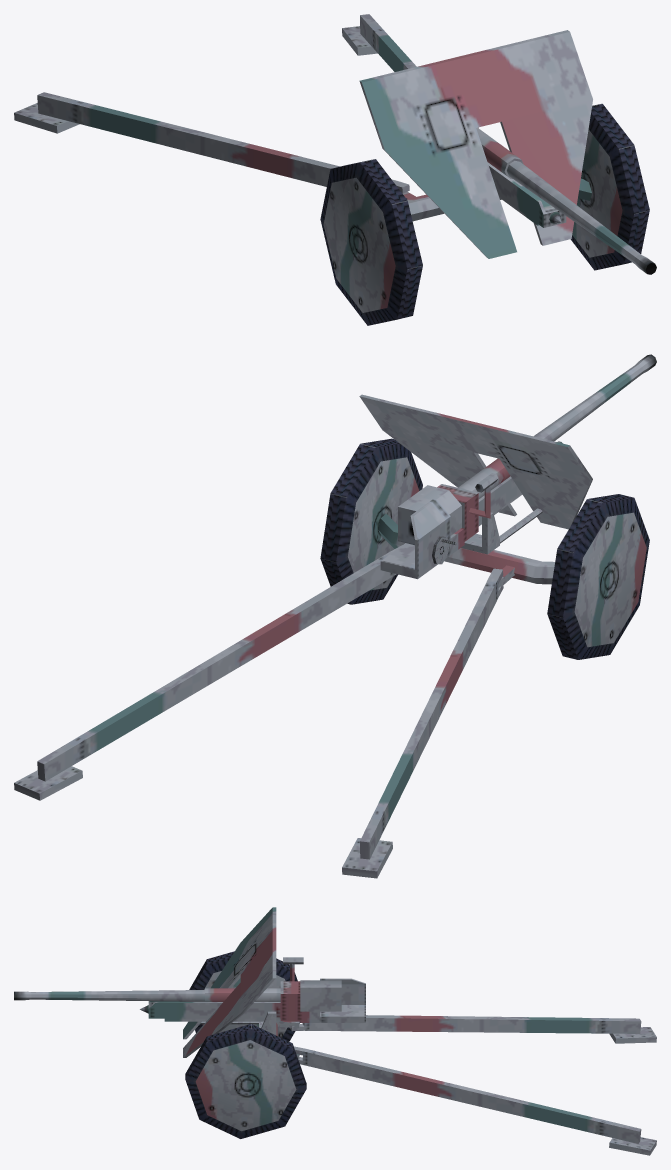
The model's file is JPNType1_47mm.dae.
The picture shows the model from 3 angles, top to bottom: view 1: azimuth 30°, elevation 25°; view 2: azimuth 150°, elevation 25°; view 3: azimuth 270°, elevation 25°; orthographic projection. The views are drawn at different scales.
Parts seen in each view (by area): view 1: turret, wheels, trail1, barrel, trail2, sleeve, carriage; view 2: wheels, turret, trail2, trail1, sleeve, barrel, carriage; view 3: wheels, trail2, trail1, turret, sleeve, barrel.
Part boxes in pixels (x1,y1,x2,y2): turret: [359, 30, 592, 258]; wheels: [320, 103, 649, 325]; trail1: [14, 92, 409, 193]; barrel: [476, 127, 656, 274]; trail2: [342, 14, 416, 71]; sleeve: [478, 127, 566, 227]; carriage: [403, 178, 591, 221]; wheels: [320, 438, 649, 659]; turret: [359, 394, 592, 554]; trail2: [14, 545, 402, 800]; trail1: [342, 568, 503, 878]; sleeve: [380, 441, 562, 579]; barrel: [398, 354, 656, 545]; carriage: [378, 513, 555, 587]; wheels: [185, 951, 306, 1138]; trail2: [294, 1046, 656, 1155]; trail1: [290, 1015, 656, 1043]; turret: [183, 907, 276, 1057]; sleeve: [140, 957, 365, 1022]; barrel: [14, 980, 341, 1011].
Size of the model in its own units: 16.16 by 35.5 by 9.46.
1 material, 1 textured.
